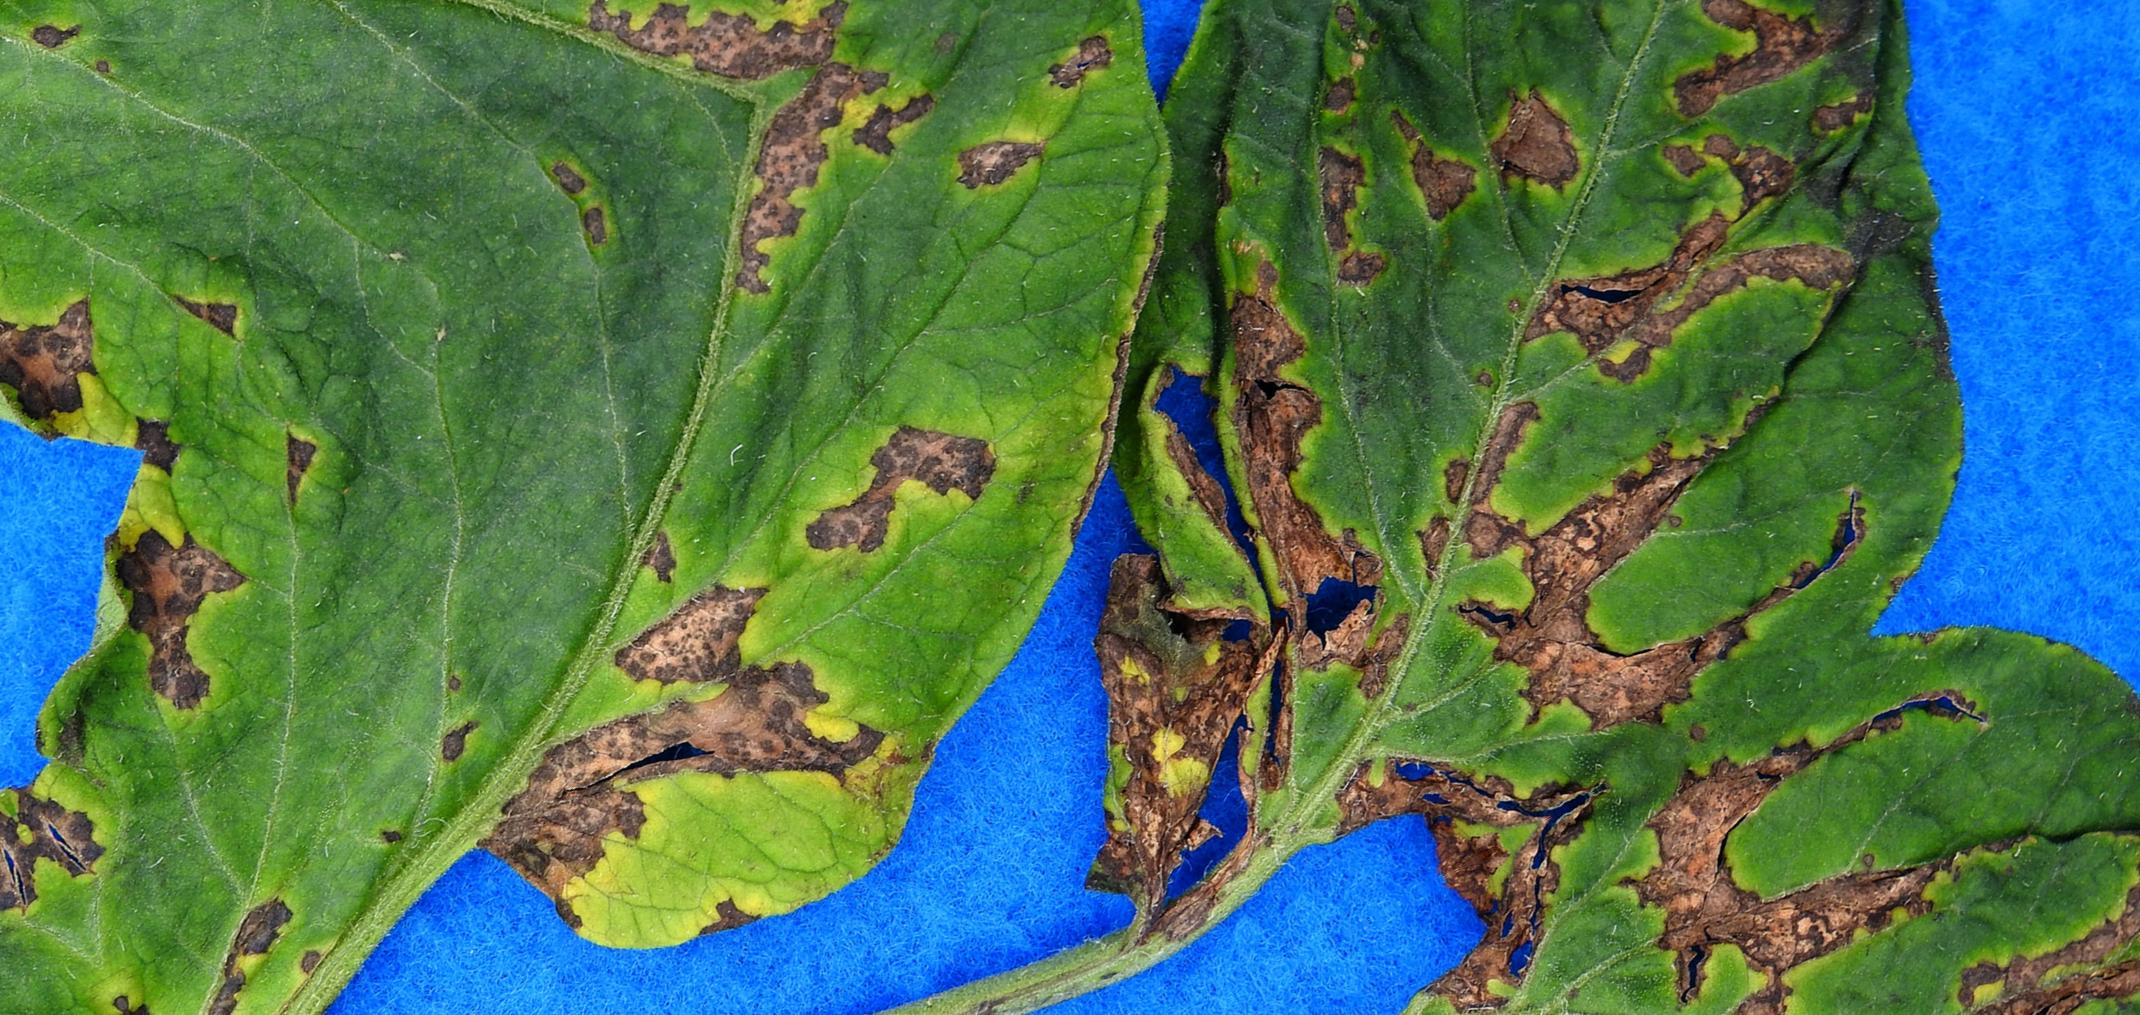Tomato leaf bacterial spot: (0, 0, 1671, 1015), (733, 0, 2140, 1000), (209, 915, 800, 1015)
